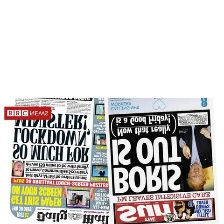news_paper: (104, 95, 219, 223), (6, 97, 122, 222)
